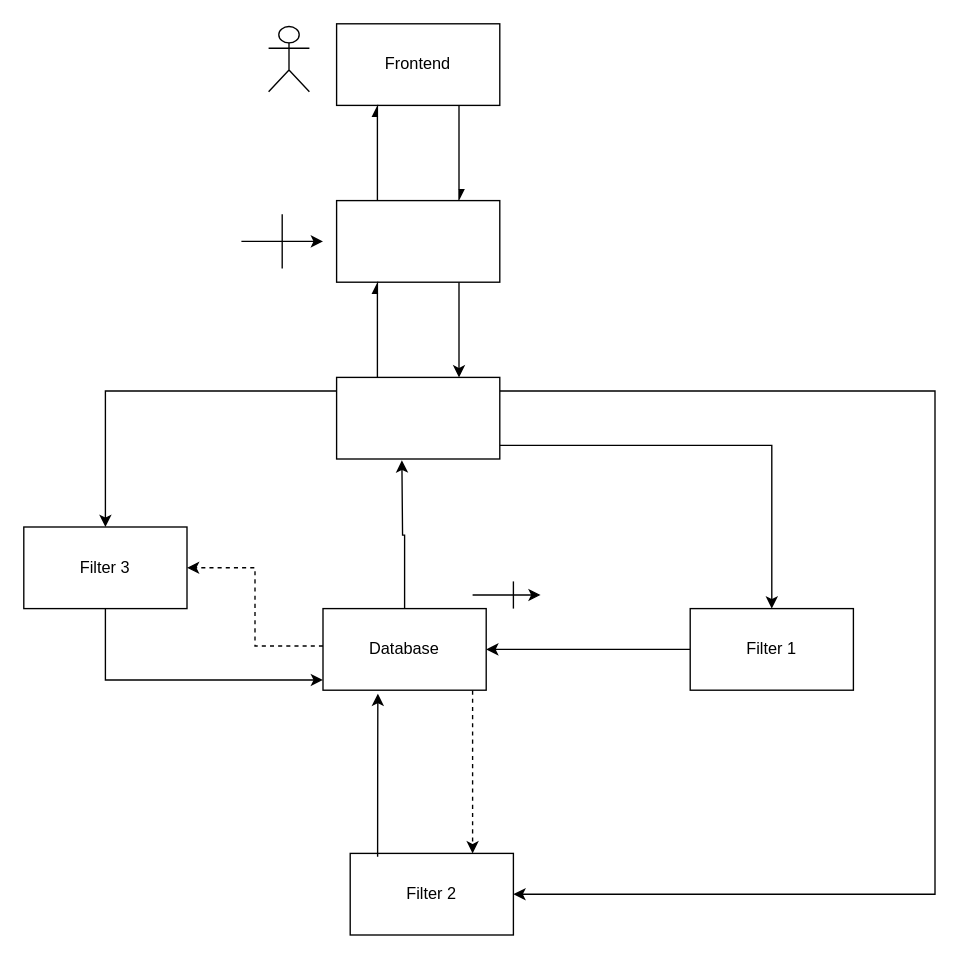
This 970x959 diagram has some shape labels left out. Here are the shapes that lost their labels. From the top down, the centre of each, then its label:
point 417,240: API
point 417,417: Backend
